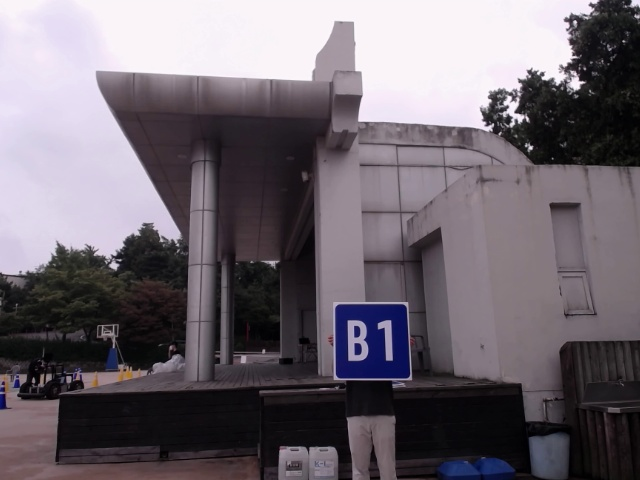delivery_b1: (333, 303, 412, 380)
